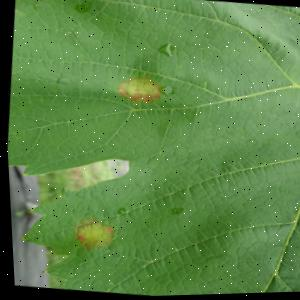Folha: (0, 0, 300, 300)
Fungo: (114, 71, 174, 105), (68, 214, 116, 253)
